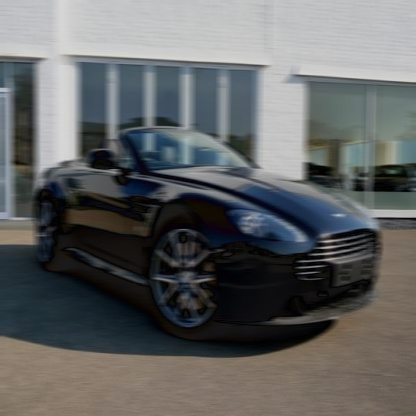Vehicle: (33, 124, 382, 340)
